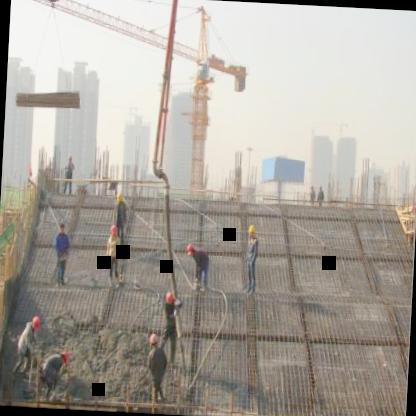head: (58, 218, 66, 234)
helmet: (59, 348, 72, 366), (245, 222, 256, 241), (149, 333, 161, 349), (31, 312, 41, 331), (108, 222, 118, 238), (188, 242, 197, 258), (116, 190, 125, 206)
